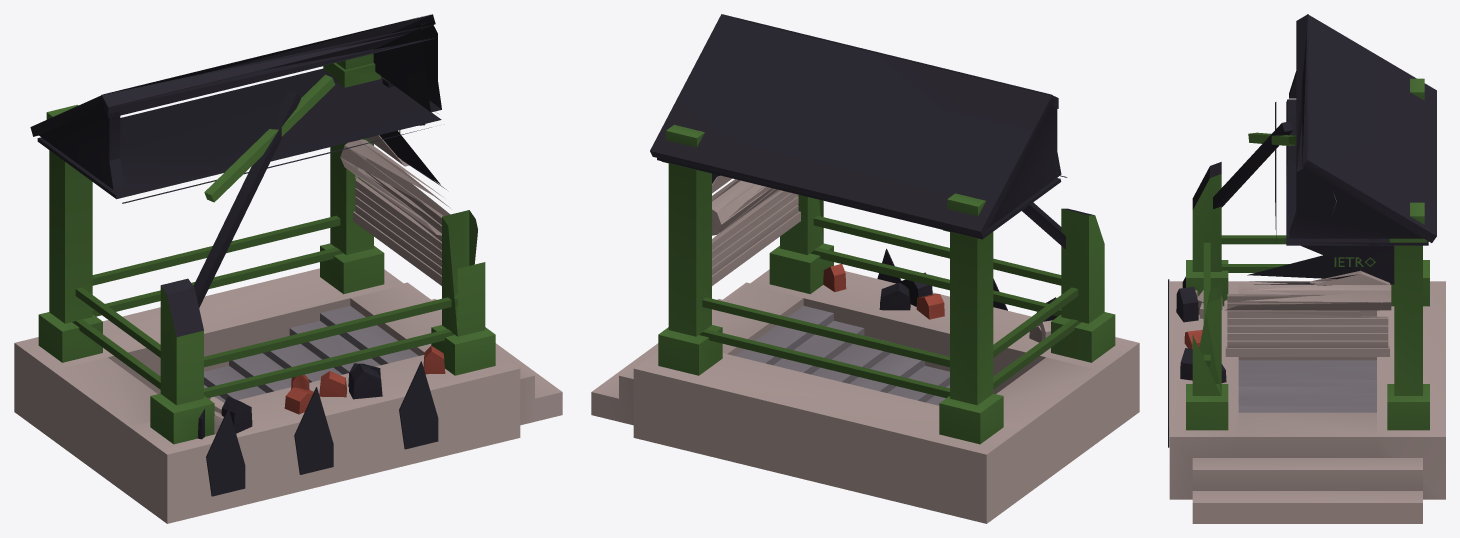
3 renders of one model, left to right at view 1: azimuth 30°, elevation 25°; view 2: azimuth 150°, elevation 25°; view 3: azimuth 270°, elevation 25°, orthographic. The views are drawn at different scales.
Visible parts, largest first — view 1: body_pal_sidewalk, body_pal_uiDark.001, body_pal_foliageDark.037, body_pal_pantsLight, shutter_pal_sidewalk, body_pal_brick; view 2: body_pal_sidewalk, body_pal_uiDark.001, body_pal_foliageDark.037, body_pal_pantsLight, shutter_pal_sidewalk, body_pal_brick; view 3: body_pal_sidewalk, body_pal_uiDark.001, body_pal_foliageDark.037, shutter_pal_sidewalk, body_pal_pantsLight.
Boxes of the visible parts, x1,y1,x2,y2 form: body_pal_sidewalk: [14, 135, 562, 523]; body_pal_uiDark.001: [30, 14, 446, 496]; body_pal_foliageDark.037: [38, 49, 495, 444]; body_pal_pantsLight: [204, 305, 418, 402]; shutter_pal_sidewalk: [353, 151, 443, 285]; body_pal_brick: [284, 345, 445, 414]; body_pal_sidewalk: [591, 175, 1139, 523]; body_pal_uiDark.001: [650, 14, 1094, 321]; body_pal_foliageDark.037: [658, 124, 1115, 444]; body_pal_pantsLight: [735, 305, 949, 405]; shutter_pal_sidewalk: [712, 184, 800, 285]; body_pal_brick: [823, 264, 944, 319]; body_pal_sidewalk: [1169, 194, 1445, 523]; body_pal_uiDark.001: [1168, 14, 1436, 447]; body_pal_foliageDark.037: [1186, 78, 1429, 430]; shutter_pal_sidewalk: [1225, 294, 1389, 356]; body_pal_pantsLight: [1238, 360, 1376, 412].
Bounding box in the file's own units: 7.4 × 6.42 × 4.83.
